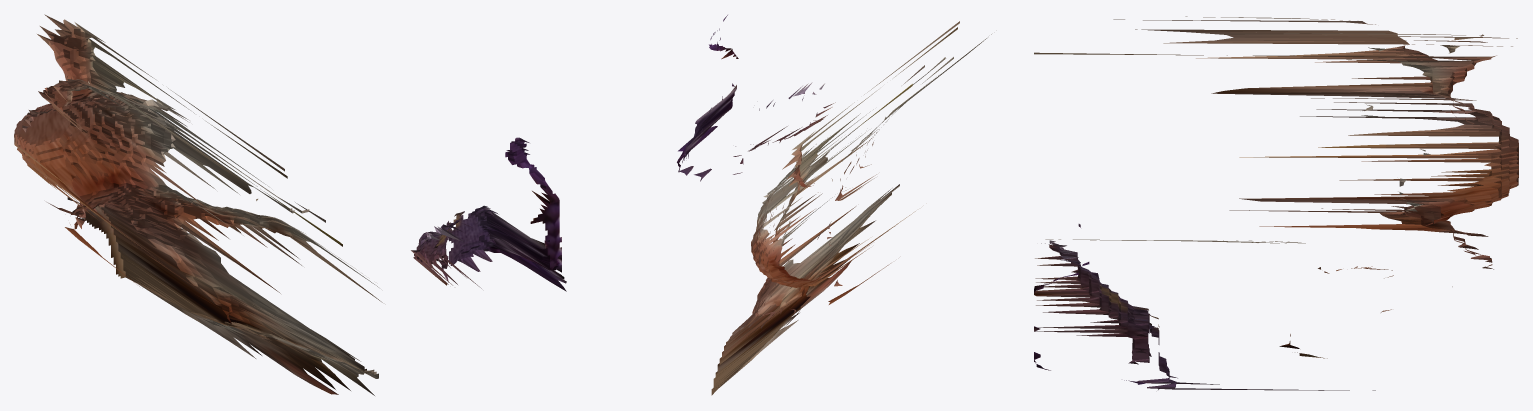
File: frame_00304.glb
The picture shows the model from 3 angles, left to right: view 1: azimuth 30°, elevation 25°; view 2: azimuth 150°, elevation 25°; view 3: azimuth 270°, elevation 25°; orthographic projection. The views are drawn at different scales.
Parts seen in each view (by area): view 1: geometry_0; view 2: geometry_0; view 3: geometry_0.
Boxes of the visible parts, <box> form: geometry_0: <box>14,14,566,395</box>; geometry_0: <box>677,15,991,395</box>; geometry_0: <box>1034,16,1518,390</box>.
Bounding box in the file's own units: 0.1407 × 0.1144 × 0.16.
Materials: 1 (1 with a texture image).
